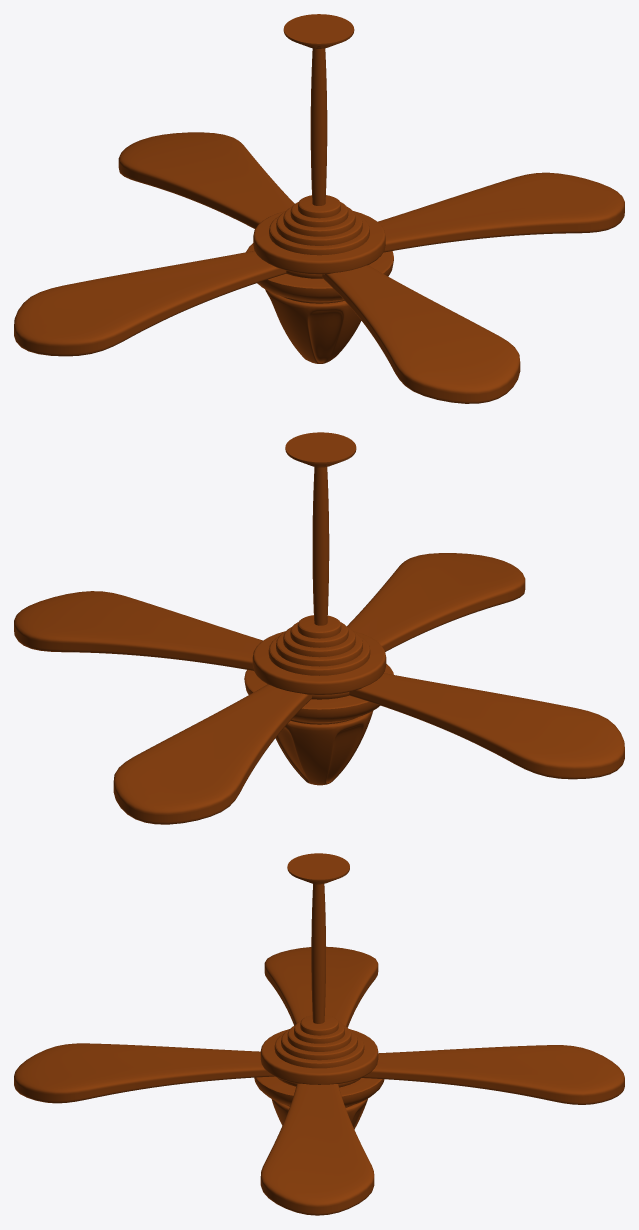
File: Cartoon_Ceiling_Fan.obj
3 views of the same model, one above another, from view 1: azimuth 30°, elevation 25°; view 2: azimuth 150°, elevation 25°; view 3: azimuth 270°, elevation 25° (orthographic). The views are drawn at different scales.
Parts seen in each view (by area): view 1: Cartoon_Ceiling_Fan11, Cartoon_Ceiling_Fan10, Cartoon_Ceiling_Fan08, Cartoon_Ceiling_Fan07, Cartoon_Ceiling_Fan03, Cartoon_Ceiling_Fan09, Cartoon_Ceiling_Fan00, Cartoon_Ceiling_Fan02, Cartoon_Ceiling_Fan05, Cartoon_Ceiling_Fan06; view 2: Cartoon_Ceiling_Fan11, Cartoon_Ceiling_Fan07, Cartoon_Ceiling_Fan08, Cartoon_Ceiling_Fan10, Cartoon_Ceiling_Fan03, Cartoon_Ceiling_Fan09, Cartoon_Ceiling_Fan00, Cartoon_Ceiling_Fan02, Cartoon_Ceiling_Fan05, Cartoon_Ceiling_Fan06; view 3: Cartoon_Ceiling_Fan08, Cartoon_Ceiling_Fan07, Cartoon_Ceiling_Fan10, Cartoon_Ceiling_Fan11, Cartoon_Ceiling_Fan03, Cartoon_Ceiling_Fan00, Cartoon_Ceiling_Fan02, Cartoon_Ceiling_Fan05, Cartoon_Ceiling_Fan06, Cartoon_Ceiling_Fan09.
Boxes of the visible parts, x1,y1,x2,y2 form: Cartoon_Ceiling_Fan11: (14,250,286,356); Cartoon_Ceiling_Fan10: (322,265,520,403); Cartoon_Ceiling_Fan08: (377,172,624,252); Cartoon_Ceiling_Fan07: (118,132,294,228); Cartoon_Ceiling_Fan03: (269,195,369,255); Cartoon_Ceiling_Fan09: (265,289,361,363); Cartoon_Ceiling_Fan00: (253,211,385,274); Cartoon_Ceiling_Fan02: (310,48,327,205); Cartoon_Ceiling_Fan05: (246,243,393,301); Cartoon_Ceiling_Fan06: (283,14,354,48); Cartoon_Ceiling_Fan11: (349,673,624,779); Cartoon_Ceiling_Fan07: (113,684,311,824); Cartoon_Ceiling_Fan08: (14,591,262,670); Cartoon_Ceiling_Fan10: (347,553,525,651); Cartoon_Ceiling_Fan03: (268,615,370,675); Cartoon_Ceiling_Fan09: (275,711,372,785); Cartoon_Ceiling_Fan00: (252,631,386,694); Cartoon_Ceiling_Fan02: (312,467,329,625); Cartoon_Ceiling_Fan05: (244,664,393,722); Cartoon_Ceiling_Fan06: (285,432,356,467); Cartoon_Ceiling_Fan08: (260,1083,374,1215); Cartoon_Ceiling_Fan07: (362,1045,624,1104); Cartoon_Ceiling_Fan10: (14,1043,274,1103); Cartoon_Ceiling_Fan11: (264,946,378,1027); Cartoon_Ceiling_Fan03: (274,1015,364,1068); Cartoon_Ceiling_Fan00: (260,1029,378,1084); Cartoon_Ceiling_Fan02: (311,883,325,1023); Cartoon_Ceiling_Fan05: (254,1076,384,1106); Cartoon_Ceiling_Fan06: (287,853,349,884); Cartoon_Ceiling_Fan09: (271,1099,367,1129).
Size of the model in its own units: 95.9 by 51.26 by 95.9.
